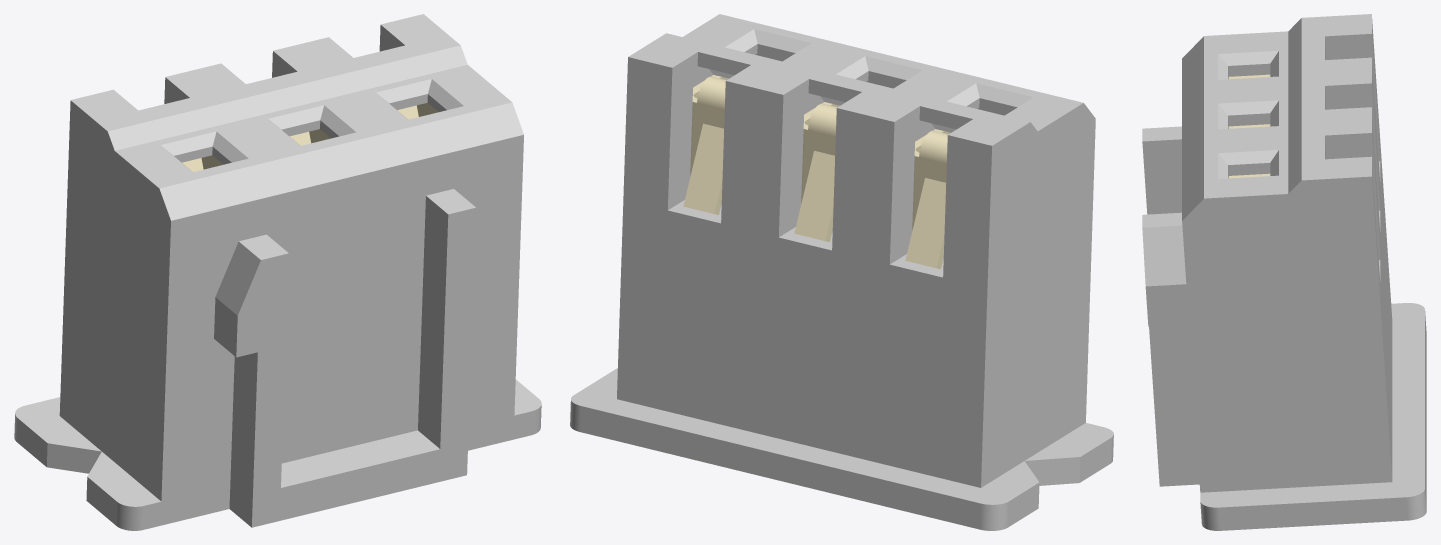
The model's file is pin3Female.glb.
3 views of the same model, side by side, from view 1: azimuth 30°, elevation 25°; view 2: azimuth 150°, elevation 25°; view 3: azimuth 270°, elevation 25° (orthographic). The views are drawn at different scales.
Parts seen in each view (by area): view 1: Node1; view 2: Node1; view 3: Node1.
Boxes of the visible parts, box(x1,y1,x2,y2) form: Node1: box(14, 14, 541, 530); Node1: box(570, 14, 1113, 530); Node1: box(1142, 14, 1426, 530).
Bounding box in the file's own units: 0.00919 × 0.00754 × 0.00568.
